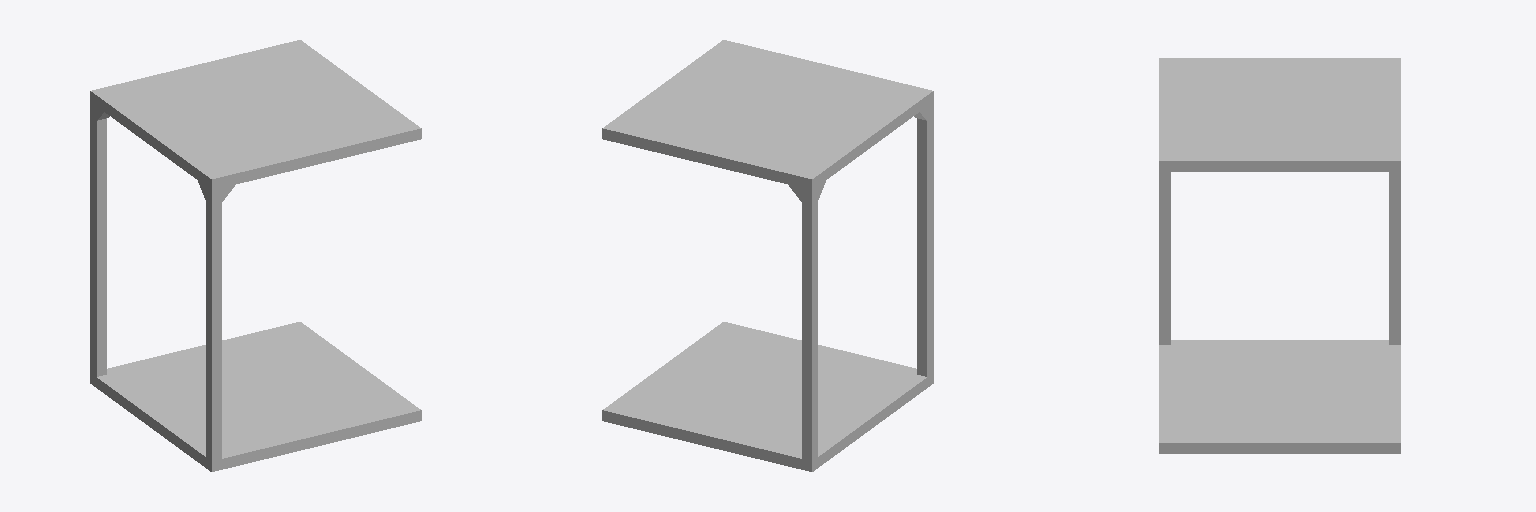
The model's file is hti.obj.
3 views of the same model, side by side, from view 1: azimuth 30°, elevation 25°; view 2: azimuth 150°, elevation 25°; view 3: azimuth 270°, elevation 25° (orthographic).
Parts seen in each view (by area): view 1: Body.001; view 2: Body.001; view 3: Body.001.
Part boxes in pixels (x1,y1,x2,y2): Body.001: (90, 40, 421, 471); Body.001: (602, 40, 933, 471); Body.001: (1159, 58, 1400, 453).
Size of the model in its own units: 1.5 by 2 by 1.5.